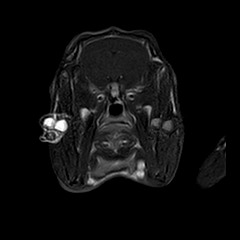Brain: (64, 6, 163, 104)
